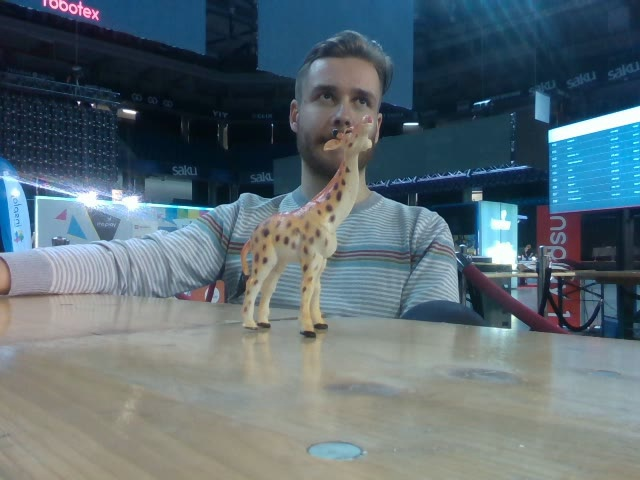toy: (235, 111, 374, 343)
